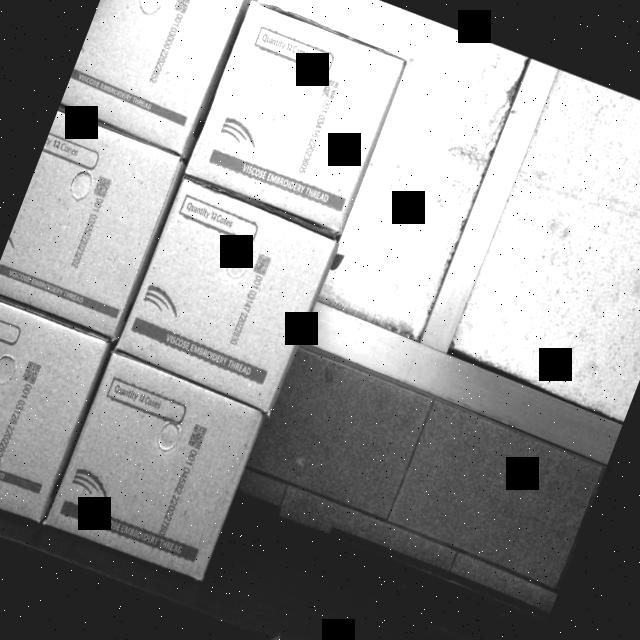box: (186, 0, 410, 239), (46, 354, 270, 586), (116, 180, 336, 412), (0, 108, 182, 336), (60, 0, 255, 151), (0, 294, 110, 523)
